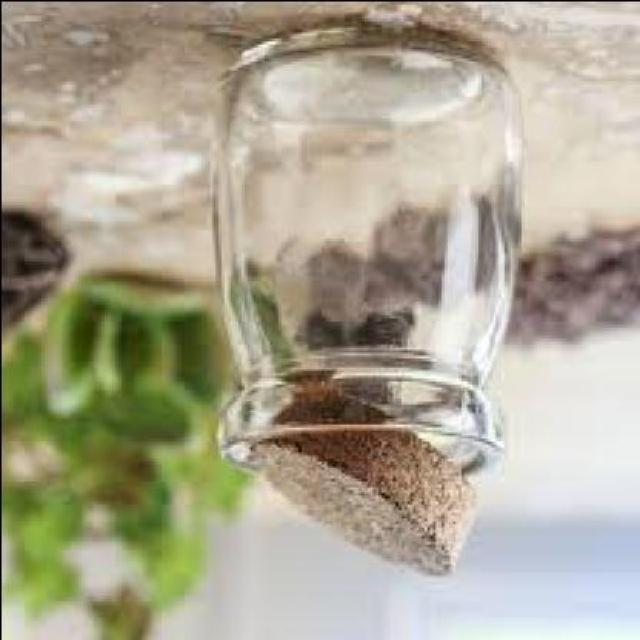GLASS: (215, 45, 526, 485)
